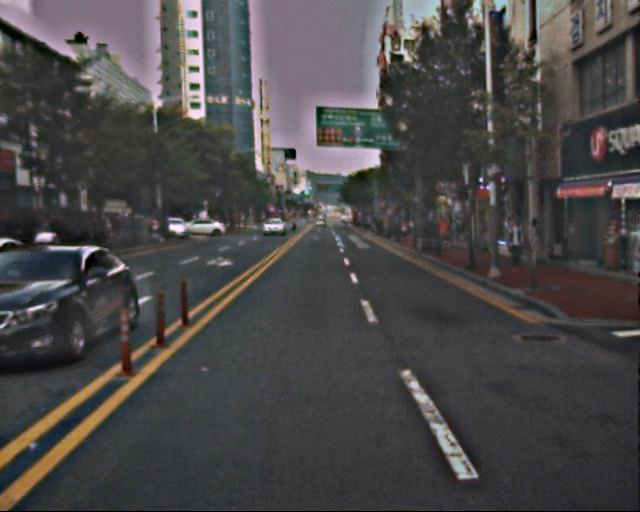person: (501, 214, 526, 274), (524, 220, 546, 273)
